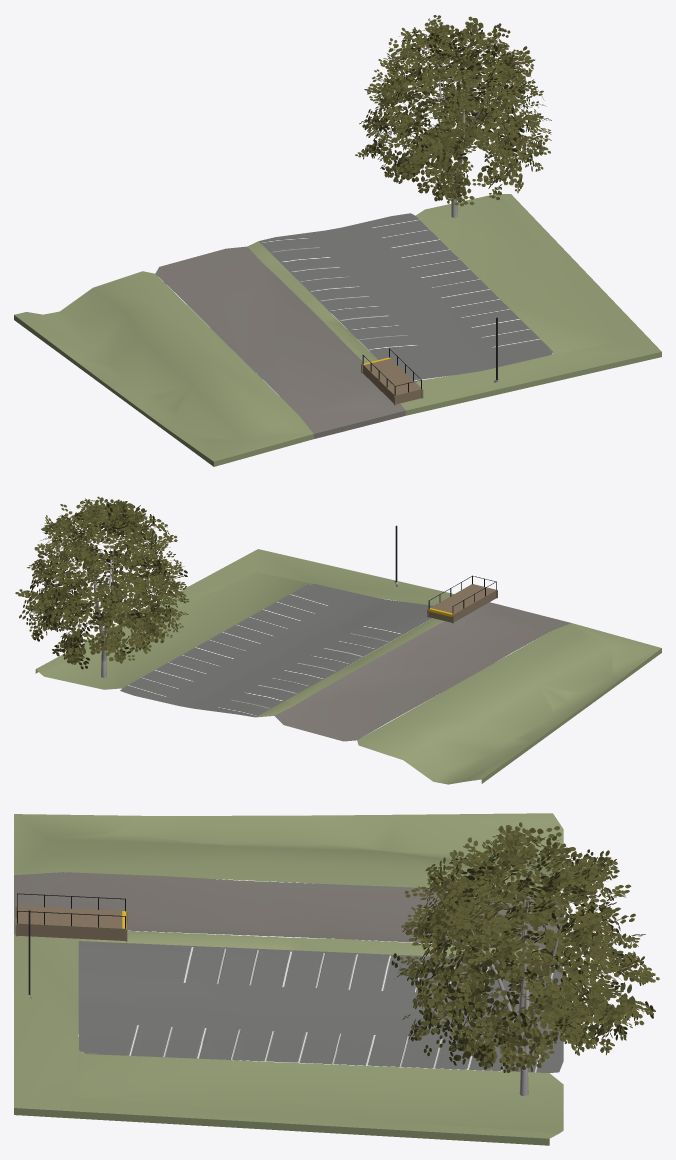
The picture shows the model from 3 angles, top to bottom: view 1: azimuth 30°, elevation 25°; view 2: azimuth 150°, elevation 25°; view 3: azimuth 270°, elevation 25°; orthographic projection. The views are drawn at different scales.
Visible parts, largest first — view 1: SW_ground_southwest_lawn_-3_-3, SW_ground_southwest_asphalt_-3_-3_UNVERIFIED, SW_Station_Tree_lawn_E2_UNVERIFIEDspecies, SW_ground_southwest_gravel_-3_-3_UNVERIFIED, SW_Station_Mini_high_east_UNVERIFIED; view 2: SW_ground_southwest_lawn_-3_-3, SW_ground_southwest_asphalt_-3_-3_UNVERIFIED, SW_Station_Tree_lawn_E2_UNVERIFIEDspecies, SW_ground_southwest_gravel_-3_-3_UNVERIFIED, SW_Station_Mini_high_east_UNVERIFIED; view 3: SW_ground_southwest_lawn_-3_-3, SW_Station_Tree_lawn_E2_UNVERIFIEDspecies, SW_ground_southwest_asphalt_-3_-3_UNVERIFIED, SW_ground_southwest_gravel_-3_-3_UNVERIFIED, SW_Station_Mini_high_east_UNVERIFIED.
Boxes of the visible parts, x1,y1,x2,y2 form: SW_ground_southwest_lawn_-3_-3: (14,194,661,466); SW_ground_southwest_asphalt_-3_-3_UNVERIFIED: (258,213,552,380); SW_Station_Tree_lawn_E2_UNVERIFIEDspecies: (355,15,551,217); SW_ground_southwest_gravel_-3_-3_UNVERIFIED: (155,246,405,438); SW_Station_Mini_high_east_UNVERIFIED: (361,348,423,405); SW_ground_southwest_lawn_-3_-3: (35,549,661,784); SW_ground_southwest_asphalt_-3_-3_UNVERIFIED: (120,583,433,717); SW_Station_Tree_lawn_E2_UNVERIFIEDspecies: (15,496,189,677); SW_ground_southwest_gravel_-3_-3_UNVERIFIED: (274,602,571,741); SW_Station_Mini_high_east_UNVERIFIED: (427,575,497,623); SW_ground_southwest_lawn_-3_-3: (14,813,563,1145); SW_Station_Tree_lawn_E2_UNVERIFIEDspecies: (391,822,659,1095); SW_ground_southwest_asphalt_-3_-3_UNVERIFIED: (78,941,563,1073); SW_ground_southwest_gravel_-3_-3_UNVERIFIED: (14,872,563,948); SW_Station_Mini_high_east_UNVERIFIED: (15,893,127,941).
Size of the model in its own units: 61.89 by 23.64 by 50.17.
Materials: 10 (2 with a texture image).
